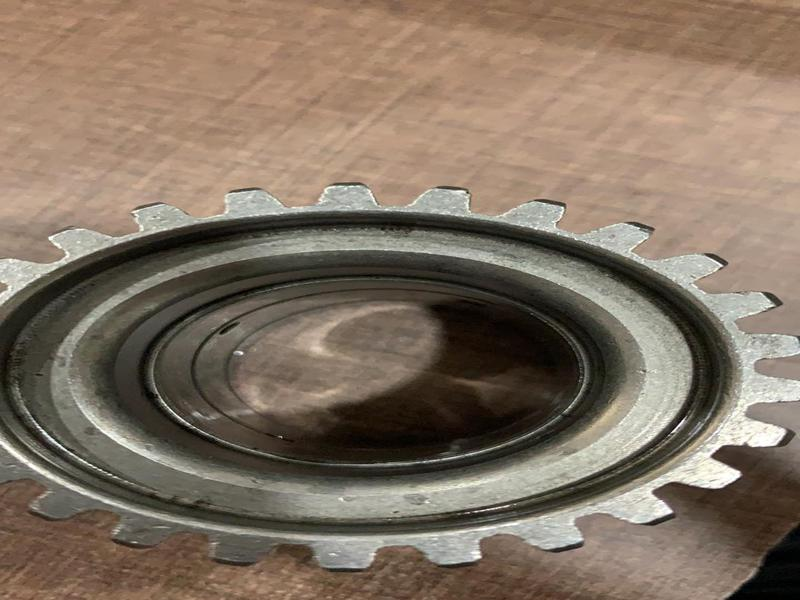engine gear ape: (16, 194, 784, 556)
